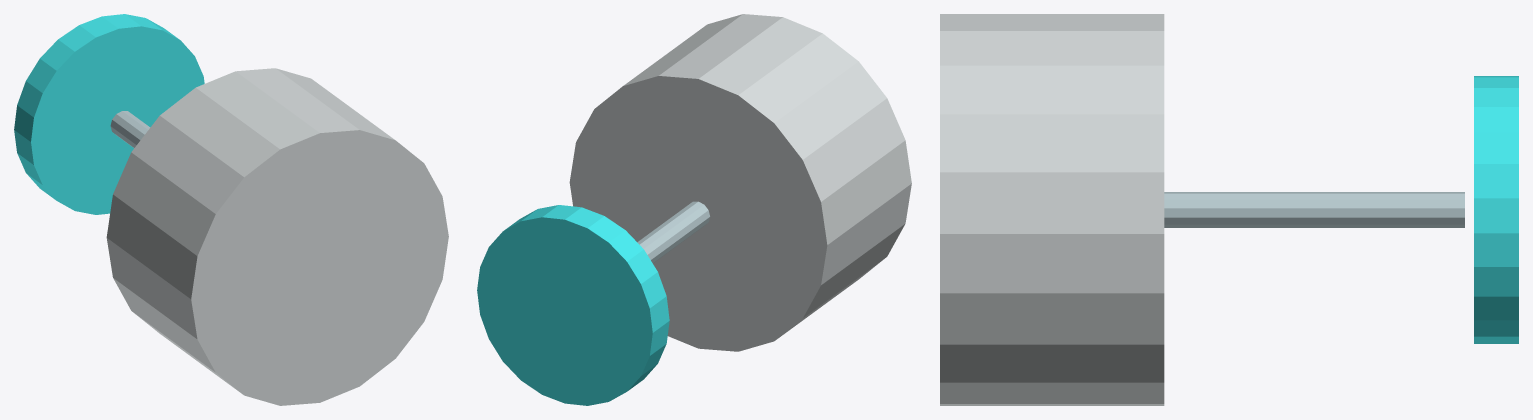
Rendered from desk-lamp.glb.
The picture shows the model from 3 angles, left to right: view 1: azimuth 30°, elevation 25°; view 2: azimuth 150°, elevation 25°; view 3: azimuth 270°, elevation 25°; orthographic projection. The views are drawn at different scales.
Visible parts, largest first — view 1: world; view 2: world; view 3: world.
Part boxes in pixels (box(x1,y1,x2,y2)): world: box(14, 14, 448, 405); world: box(477, 14, 911, 405); world: box(940, 14, 1518, 405).
Bounding box in the file's own units: 0.44 × 0.44 × 0.645.
